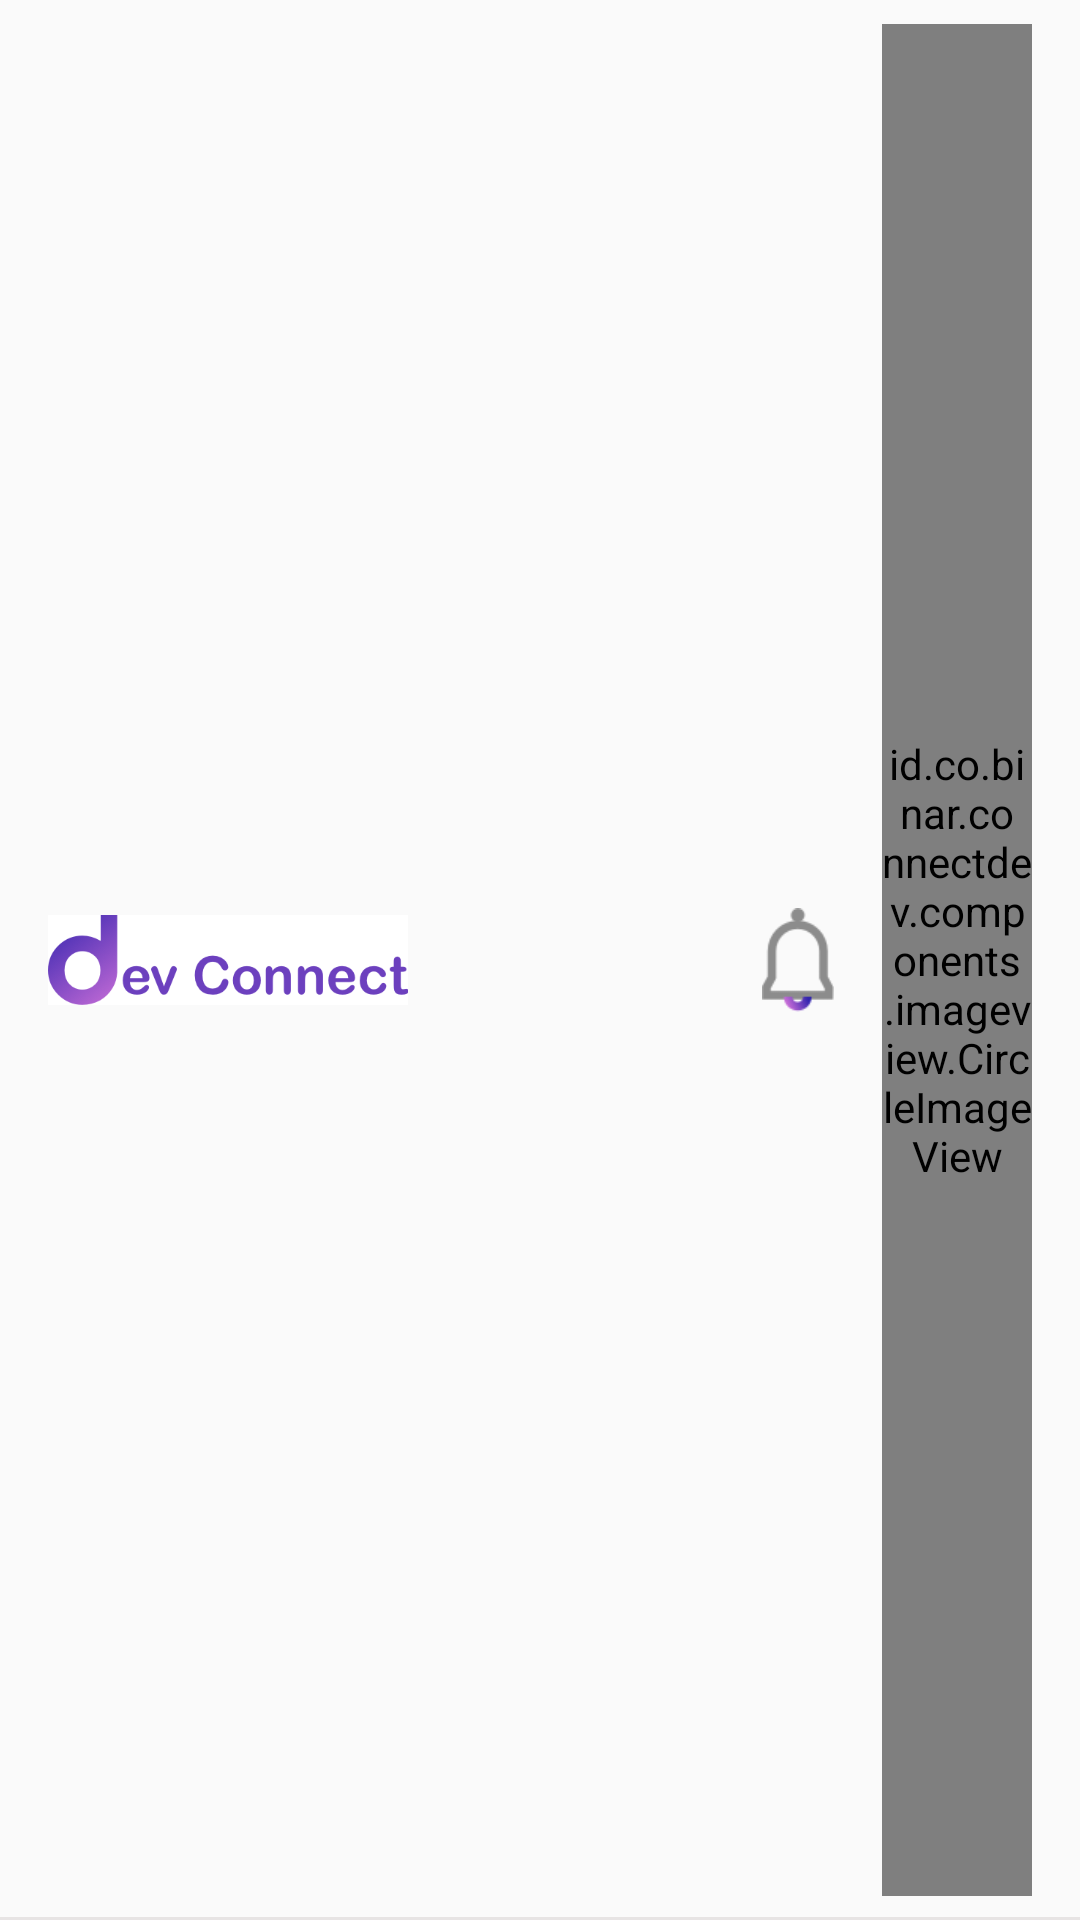

Where icons sit on this 1080w x 1920h app screen, as {"x1": x1, "y1": y1, "x2": x2, "y2": y2}:
notification: {"x1": 762, "y1": 908, "x2": 834, "y2": 1011}
